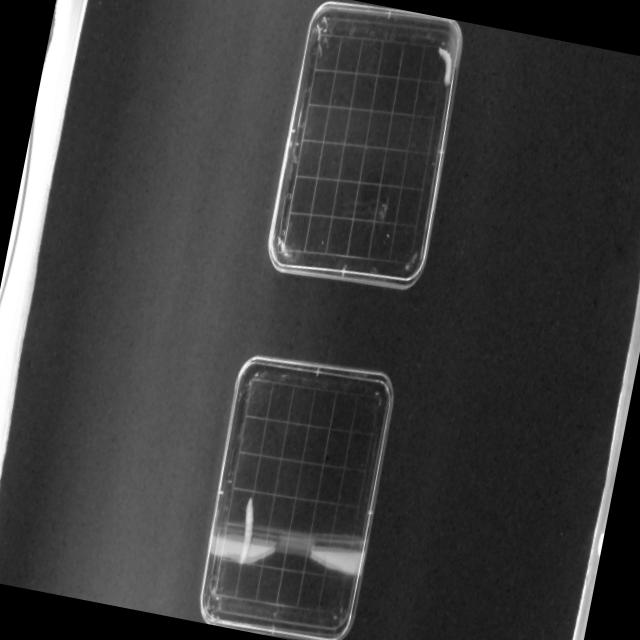larva: (235, 496, 260, 567), (429, 45, 458, 95)
